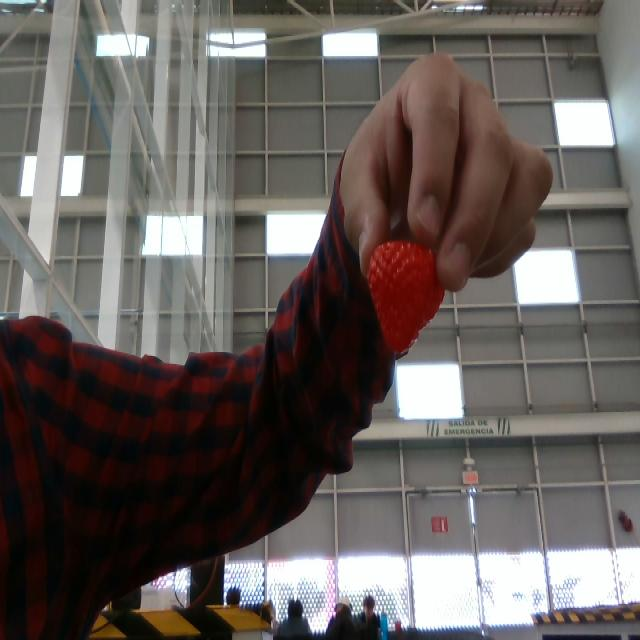chica_roja: (368, 241, 444, 352)
